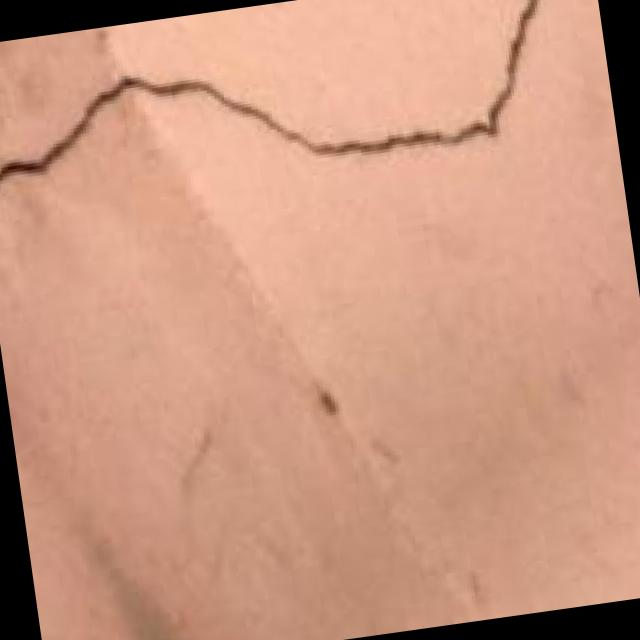crack: (0, 0, 613, 218)
